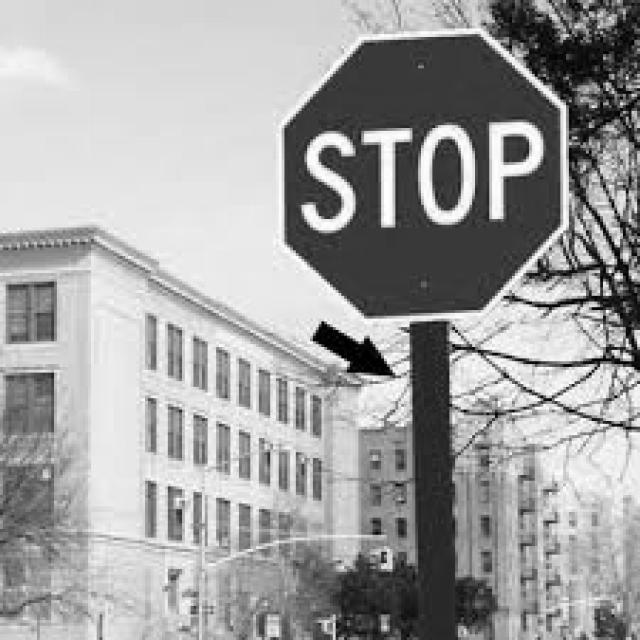stop sign: (279, 29, 570, 319)
